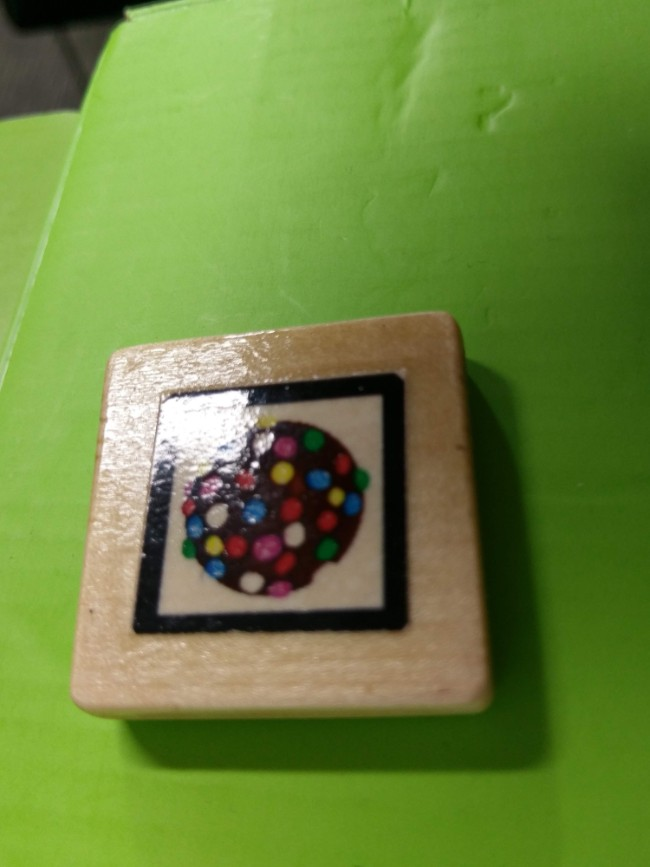cookie: (116, 366, 428, 657)
